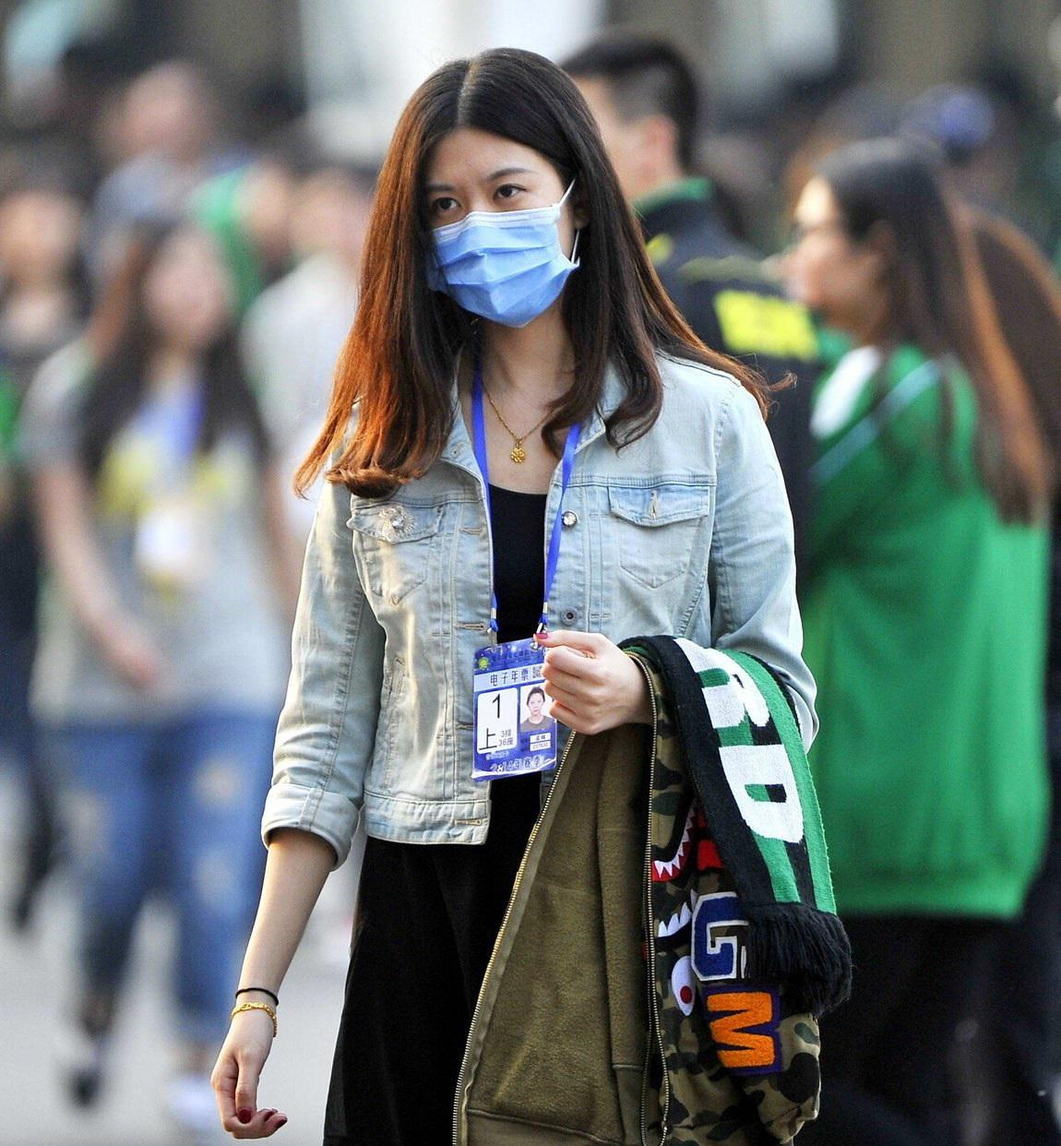NONE: (790, 195, 884, 324)
OK: (428, 154, 586, 312)
